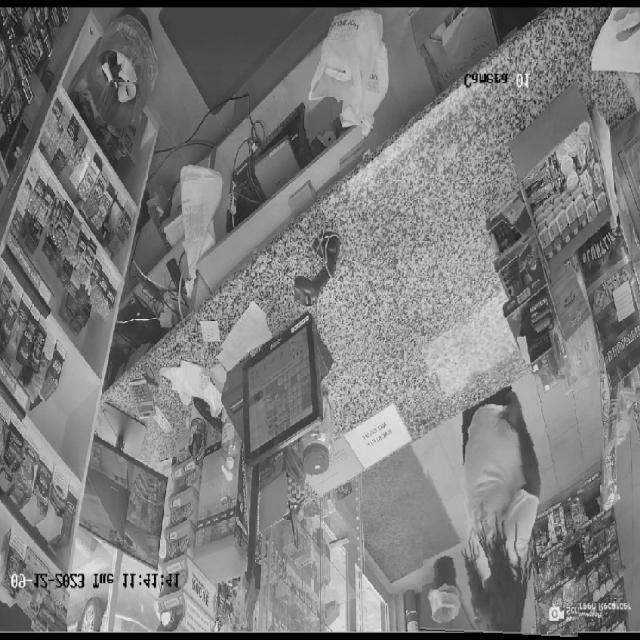Normal: (423, 370, 588, 636)
